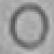no answer: (6, 0, 49, 49)
